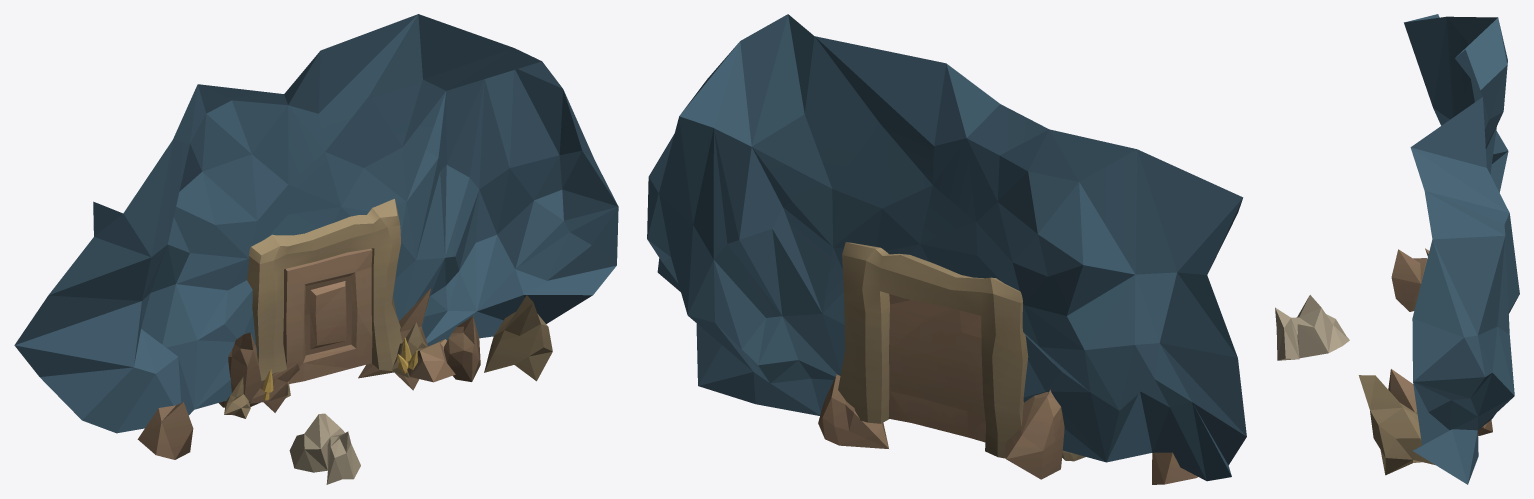
Rendered from caveDoorBase.fbx.
3 renders of one model, left to right at view 1: azimuth 30°, elevation 25°; view 2: azimuth 150°, elevation 25°; view 3: azimuth 270°, elevation 25°, orthographic. The views are drawn at different scales.
Visible parts, largest first — view 1: caveDoorBase, singleDoor; view 2: caveDoorBase, singleDoor; view 3: caveDoorBase.
Part boxes in pixels (x1=…): caveDoorBase: x1=14, y1=14, x2=618, y2=484; singleDoor: x1=283, y1=248, x2=372, y2=383; caveDoorBase: x1=647, y1=14, x2=1246, y2=484; singleDoor: x1=888, y1=294, x2=985, y2=442; caveDoorBase: x1=1275, y1=14, x2=1519, y2=484.
Size of the model in its own units: 16.39 by 9.98 by 6.28.
